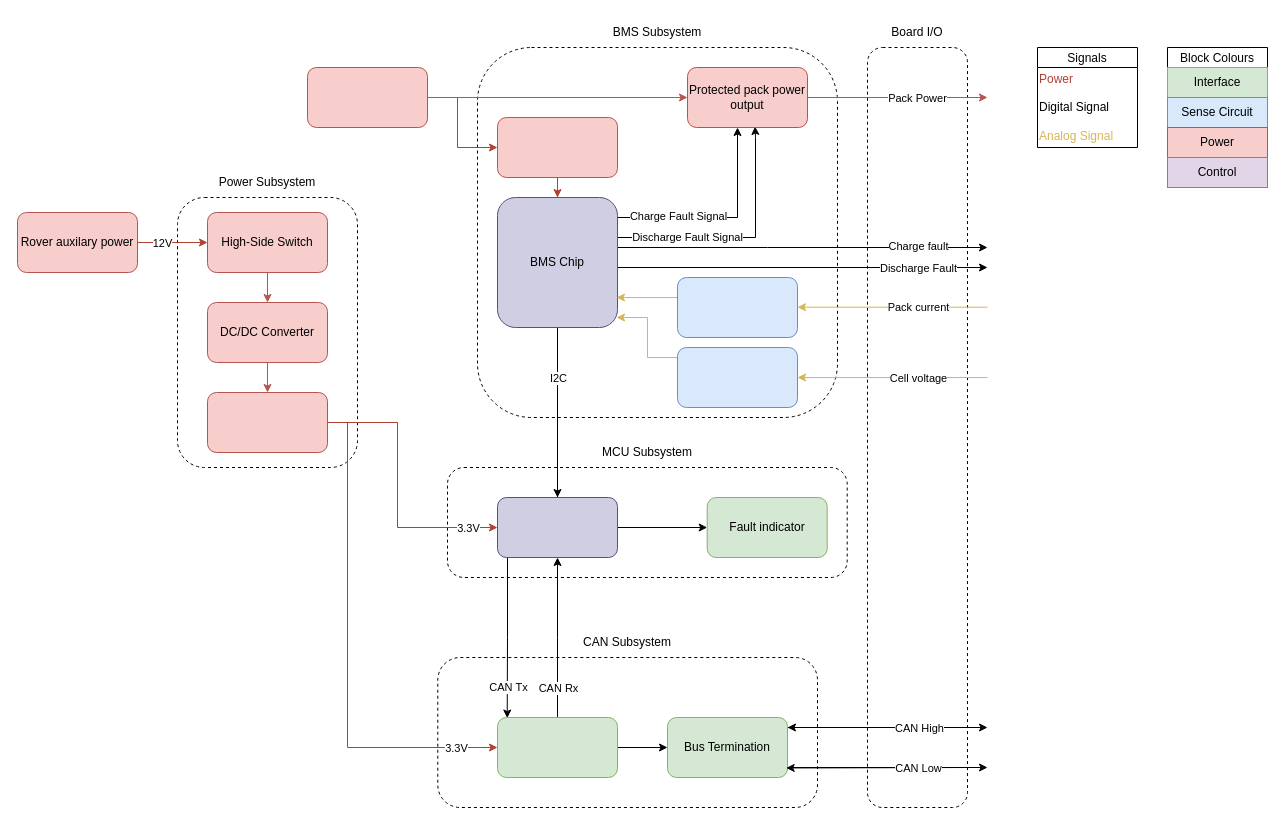
Some shapes in this 1285 by 825 pixel diagram are drawn without their labels. The centre of each missing label's shape, as x and y in pixels:
"3.3V Regulator" belongs at point (267, 422).
"Battery pack power" belongs at point (367, 97).
"CAN Transciever" belongs at point (557, 747).
"Current Sense" belongs at point (737, 307).
"Power input protection circuit" belongs at point (557, 147).
"Stm32" belongs at point (557, 527).
"Voltage & temperature Sense" belongs at point (737, 377).
